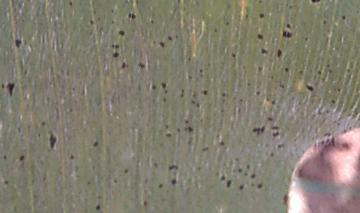tarspot: (250, 124, 266, 137), (47, 129, 56, 150), (5, 81, 16, 96), (303, 82, 314, 93), (13, 38, 22, 49), (167, 163, 178, 172), (216, 139, 227, 148), (281, 30, 292, 39), (110, 42, 121, 51), (282, 192, 289, 206), (136, 61, 146, 70), (259, 46, 268, 56), (126, 11, 136, 20), (141, 199, 150, 209), (275, 47, 283, 58), (178, 87, 186, 98), (183, 125, 194, 133), (322, 131, 333, 139), (269, 124, 281, 131), (111, 50, 120, 59), (256, 31, 264, 41), (271, 130, 281, 138), (152, 160, 160, 170), (112, 176, 120, 186), (225, 178, 232, 189), (170, 177, 178, 186), (117, 28, 125, 37), (255, 182, 264, 190), (219, 173, 227, 182), (340, 13, 348, 22), (165, 34, 173, 43), (265, 115, 274, 123), (157, 182, 165, 191), (174, 126, 182, 135), (120, 60, 127, 70), (330, 135, 335, 149), (92, 140, 100, 148), (302, 35, 310, 43), (157, 40, 165, 48), (249, 172, 257, 180), (68, 152, 75, 161), (150, 82, 157, 91), (316, 68, 323, 77), (200, 146, 209, 153), (95, 193, 104, 200), (219, 91, 228, 98), (148, 15, 154, 25), (212, 24, 218, 34), (18, 154, 25, 162), (238, 183, 245, 191), (258, 12, 265, 20), (236, 166, 243, 174), (254, 89, 261, 97), (122, 166, 129, 174), (186, 73, 193, 81), (224, 19, 231, 27), (160, 81, 166, 90), (330, 97, 336, 106), (276, 143, 285, 149), (164, 132, 173, 138), (309, 1, 322, 5), (3, 179, 10, 186), (283, 66, 290, 73), (285, 22, 292, 29), (202, 89, 209, 96), (268, 151, 275, 158), (40, 120, 47, 127), (270, 99, 277, 106), (67, 1, 74, 8), (88, 18, 95, 25), (256, 65, 263, 72), (344, 67, 351, 74), (95, 203, 101, 211), (195, 100, 201, 108), (186, 54, 192, 62), (277, 83, 285, 89), (67, 106, 73, 114), (286, 4, 294, 10), (2, 152, 7, 161), (1, 81, 6, 90), (242, 171, 249, 177), (229, 52, 236, 58), (183, 118, 190, 124), (336, 87, 342, 94), (297, 68, 304, 74), (189, 99, 196, 105), (322, 18, 327, 26), (164, 123, 170, 129), (325, 63, 331, 69), (238, 97, 244, 103), (245, 163, 250, 170), (162, 95, 167, 102), (86, 179, 91, 186), (70, 86, 77, 91), (244, 12, 249, 19), (16, 126, 21, 133), (198, 68, 204, 73), (233, 156, 238, 162), (110, 18, 114, 24), (176, 1, 183, 4), (257, 1, 262, 5)
